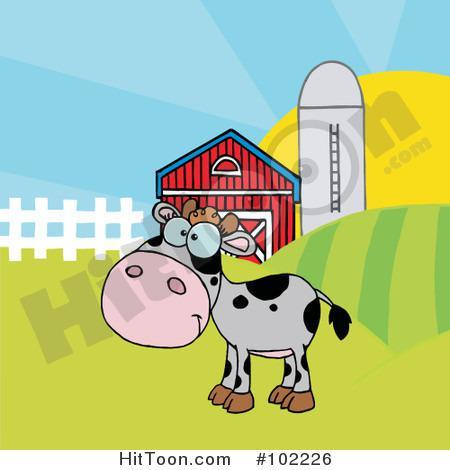cow: (90, 195, 347, 418)
